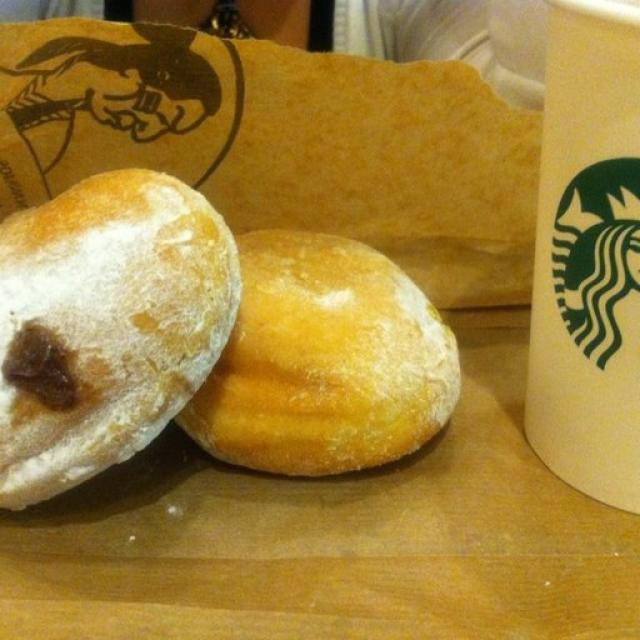Donuts: (8, 168, 508, 518)
